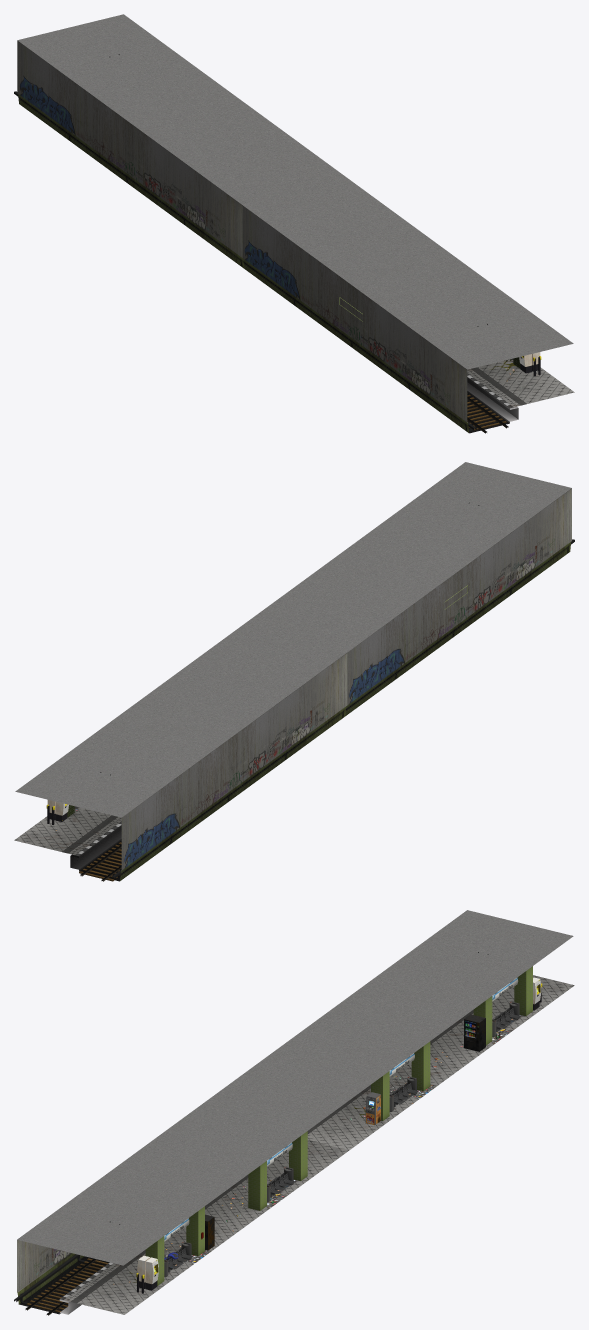
Rendered from runtime.gltf.
The picture shows the model from 3 angles, top to bottom: view 1: azimuth 30°, elevation 25°; view 2: azimuth 150°, elevation 25°; view 3: azimuth 330°, elevation 25°; orthographic projection.
Visible parts, largest first — view 1: Object_9, Object_17; view 2: Object_9, Object_17; view 3: Object_9, Object_16, Object_10, Object_17, Object_18, Object_7, Object_8, Object_6.
Boxes of the visible parts, x1,y1,x2,y2 form: Object_9: (17,14,574,433); Object_17: (467,393,508,433); Object_9: (14,462,571,881); Object_17: (79,842,121,881); Object_9: (17,910,574,1314); Object_16: (145,966,532,1285); Object_10: (166,1007,520,1272); Object_17: (25,1258,108,1315); Object_18: (205,1014,485,1250); Object_7: (136,977,542,1293); Object_8: (164,1001,519,1276); Object_6: (164,972,518,1242).
Size of the model in its own units: 8.71 by 5.02 by 64.24.
Materials: 17 (17 with a texture image).
